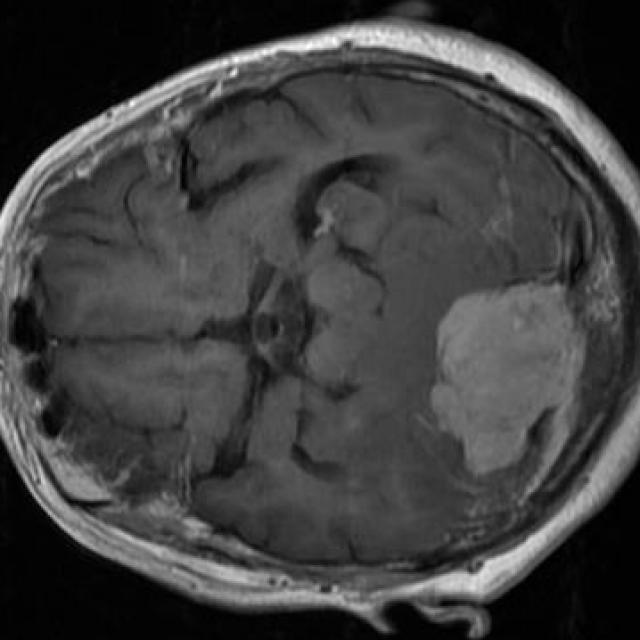meningioma: (433, 285, 583, 476)
